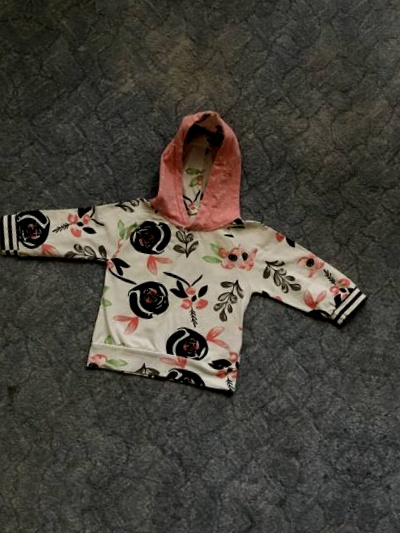Hoodie: (0, 66, 399, 427), (384, 132, 400, 492), (0, 0, 2, 360)
